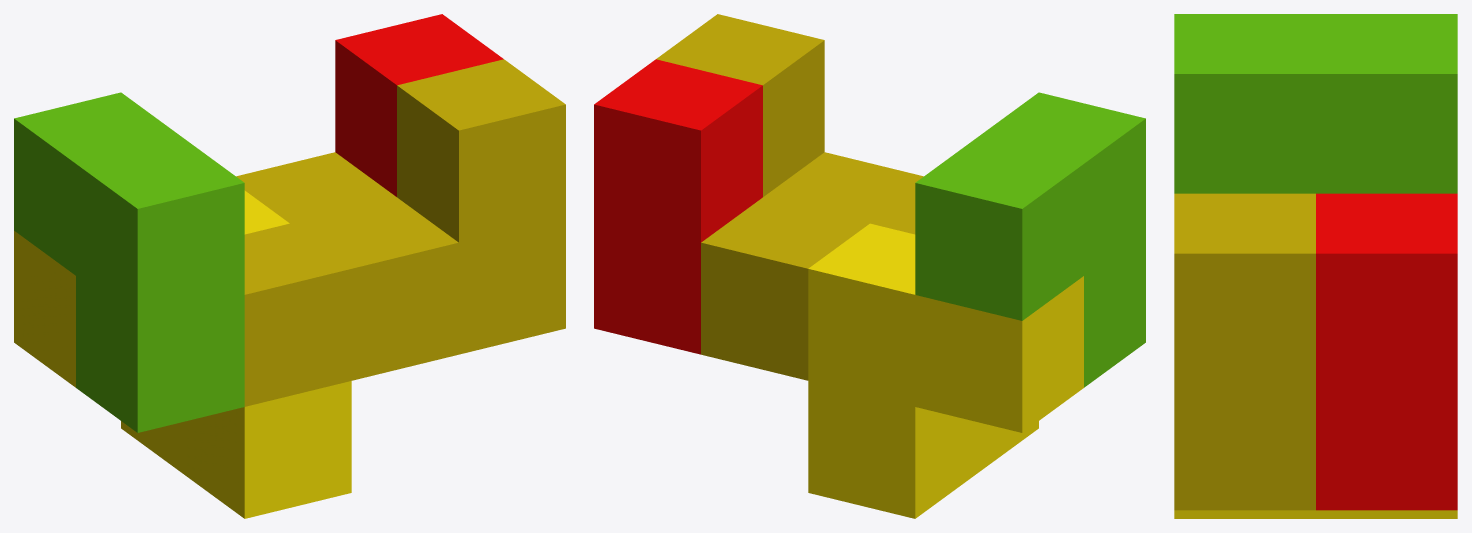
The picture shows the model from 3 angles, left to right: view 1: azimuth 30°, elevation 25°; view 2: azimuth 150°, elevation 25°; view 3: azimuth 270°, elevation 25°; orthographic projection. The views are drawn at different scales.
Visible parts, largest first — view 1: mergedBlocks(Clone); view 2: mergedBlocks(Clone); view 3: mergedBlocks(Clone).
Boxes of the visible parts, x1,y1,x2,y2 form: mergedBlocks(Clone): (14, 14, 565, 518); mergedBlocks(Clone): (594, 14, 1145, 518); mergedBlocks(Clone): (1174, 14, 1457, 518).
Size of the model in its own units: 4 by 3 by 2.
4 materials, 4 textured.
